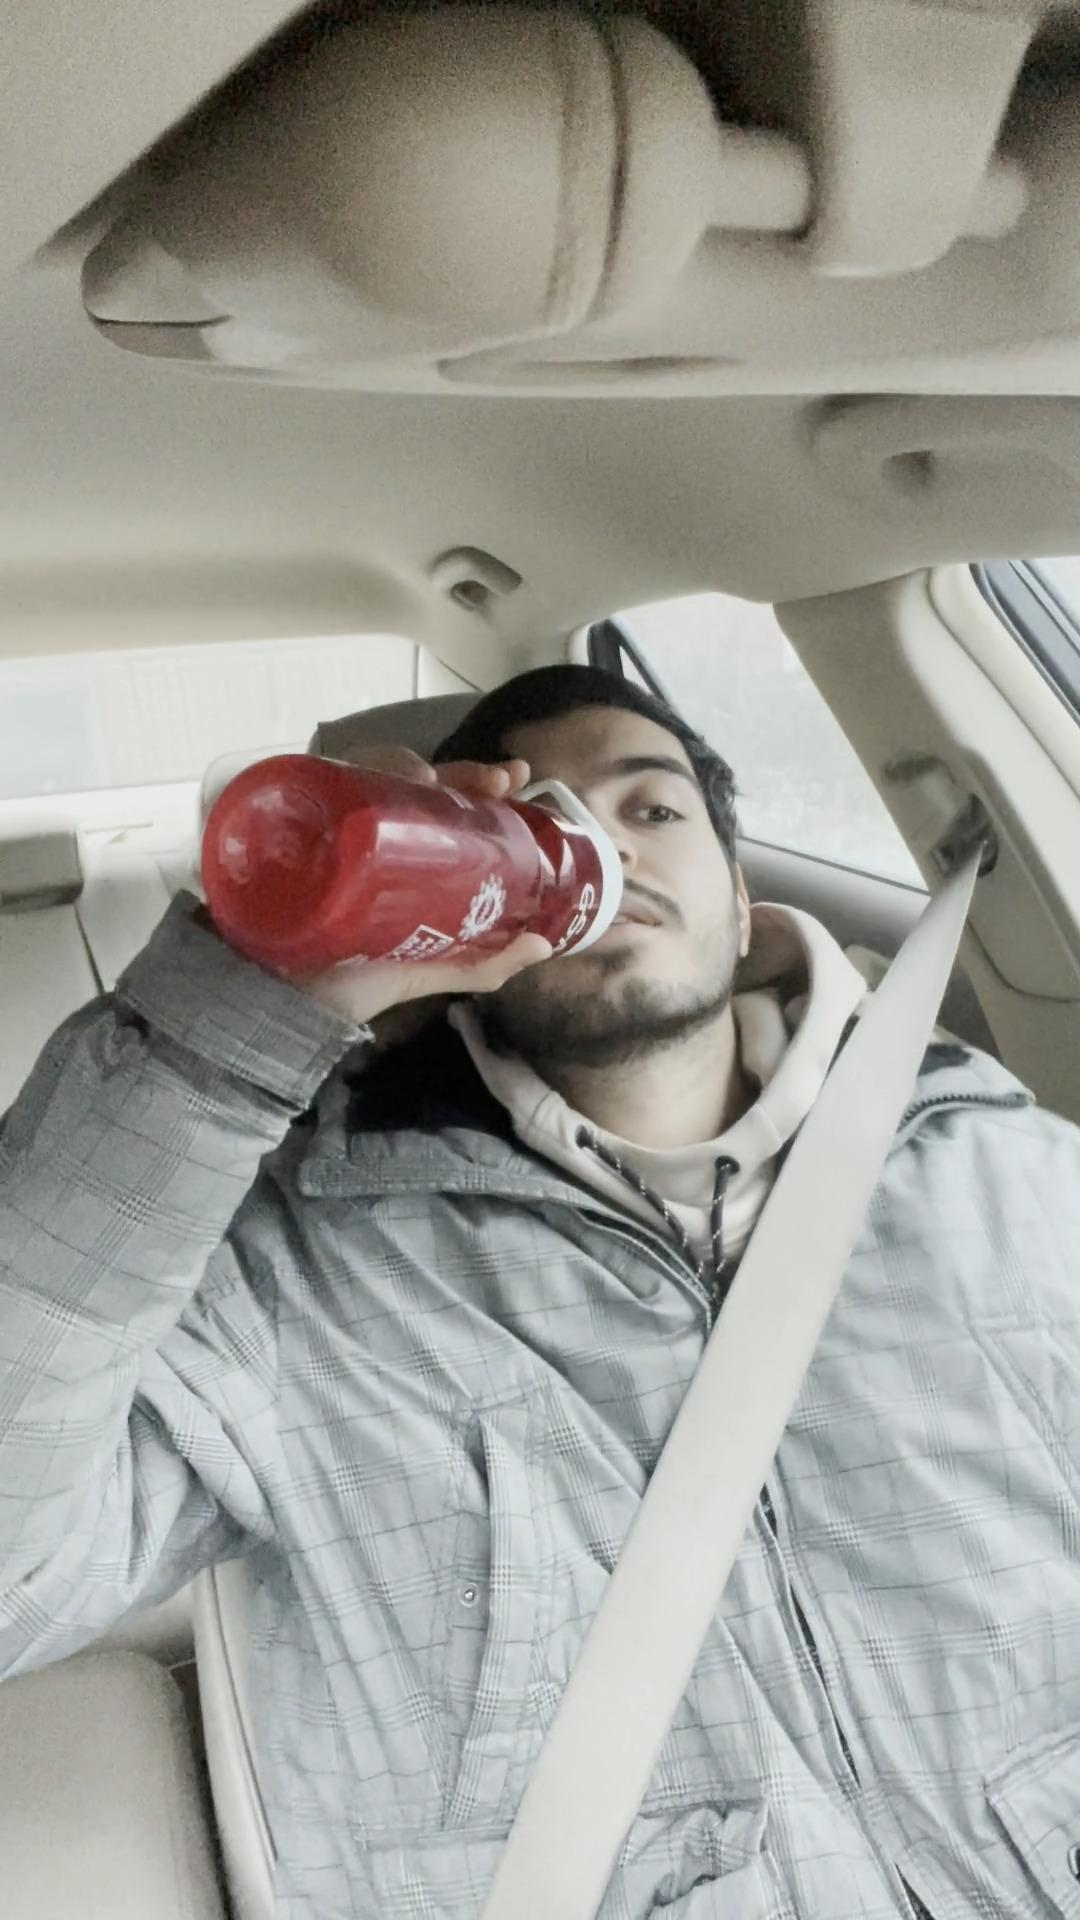drinking: (181, 745, 661, 1000)
seatbelt: (343, 1065, 1080, 1920)
